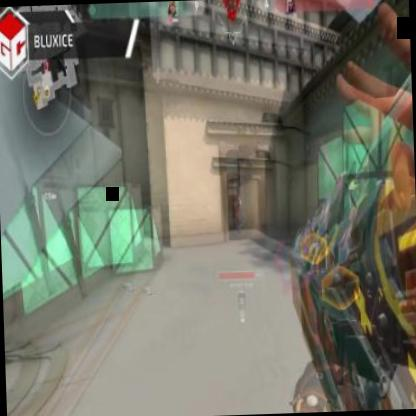enemy: (233, 197, 243, 234)
enemy_head: (238, 197, 242, 203)
